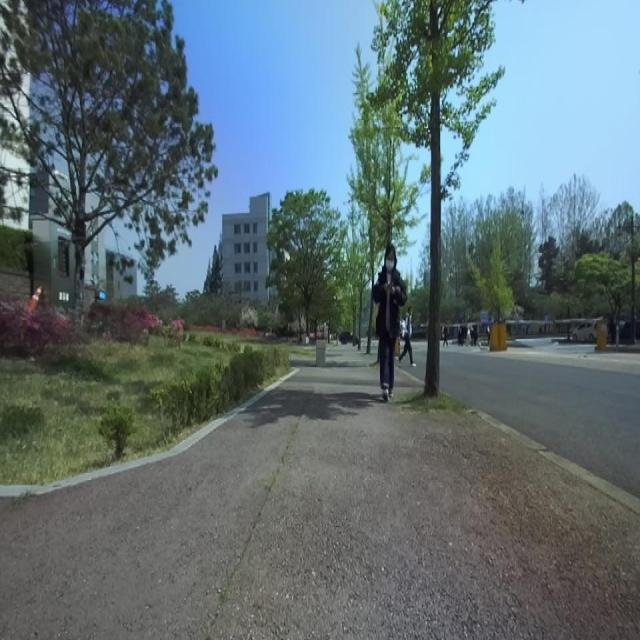sidewalk: (0, 347, 640, 639), (476, 410, 640, 514)
